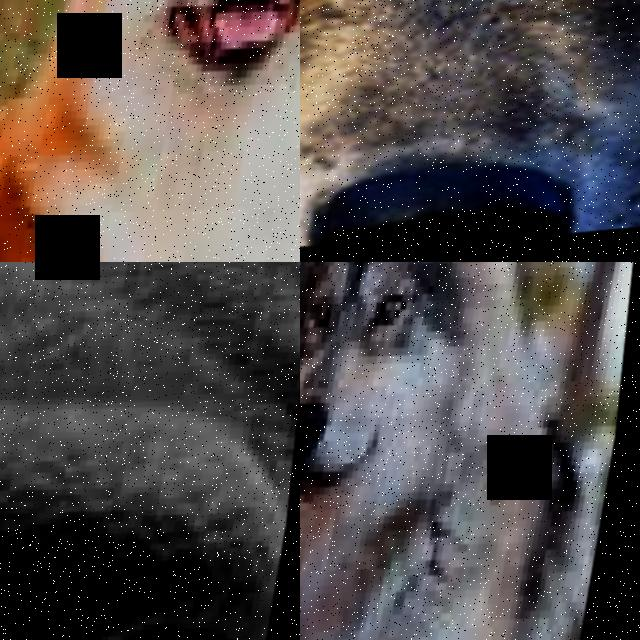dog: (0, 262, 300, 640), (0, 0, 300, 262), (0, 0, 73, 262)
wolf: (300, 262, 640, 640), (300, 0, 640, 262)
